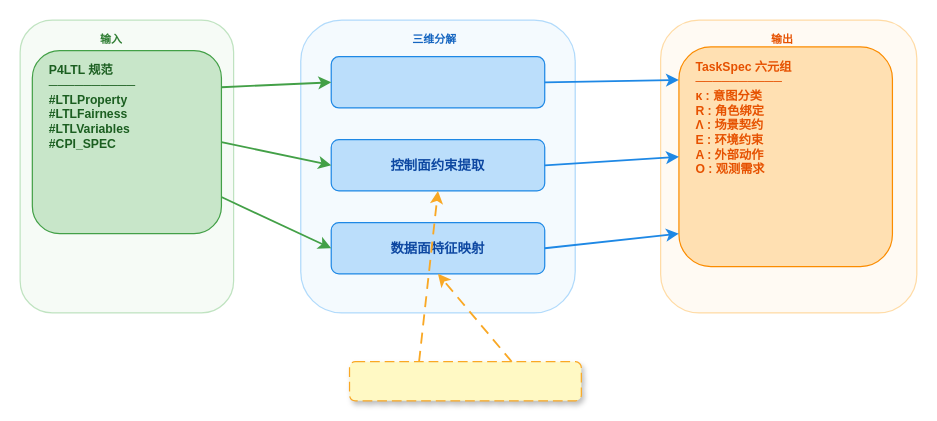
The diagram is 937 pixels wide and 421 high, and some of its shapes have lost their labels. The shapes that lost their labels are listed below. From the top down, each one's centre as x and y in pixels, then its label:
At point 437,82: "时序逻辑分离".
At point 466,382: "ProgramContext 工具查询".
